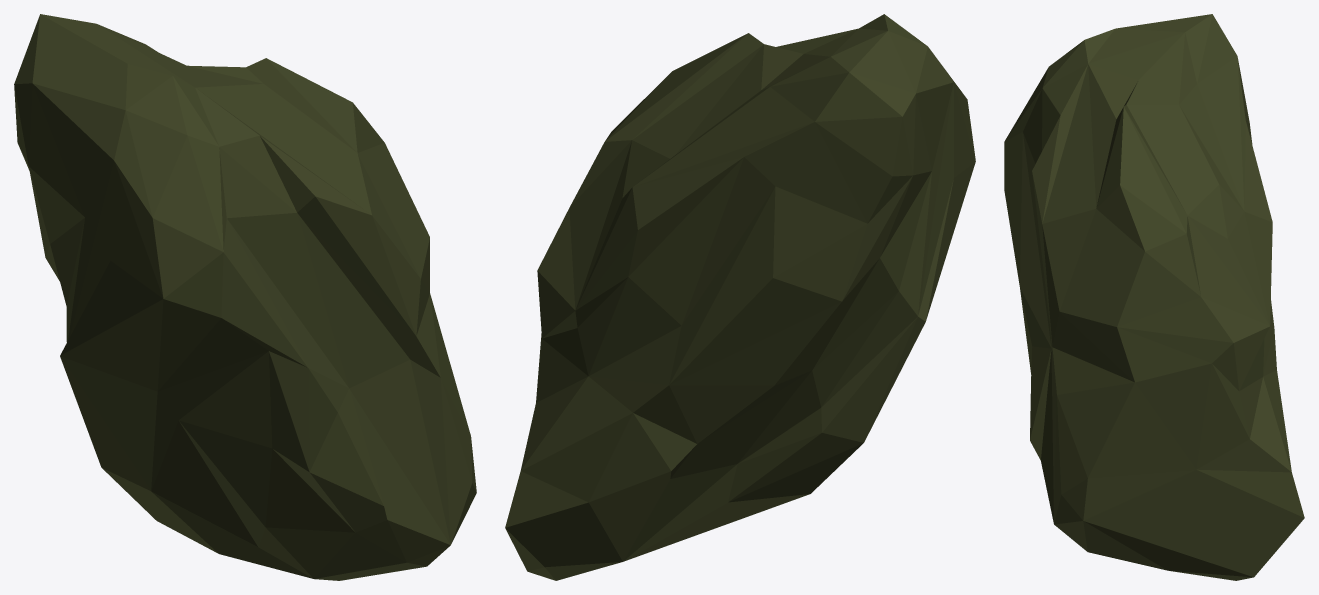
File: SM_small_rock_33.fbx
The picture shows the model from 3 angles, left to right: view 1: azimuth 30°, elevation 25°; view 2: azimuth 150°, elevation 25°; view 3: azimuth 270°, elevation 25°; orthographic projection. The views are drawn at different scales.
Parts seen in each view (by area): view 1: small_rock_33; view 2: small_rock_33; view 3: small_rock_33.
Part boxes in pixels (x1,y1,x2,y2): small_rock_33: [14, 14, 476, 580]; small_rock_33: [505, 14, 975, 580]; small_rock_33: [1004, 14, 1304, 580].
Bounding box in the file's own units: 12.15 × 17.96 × 10.7.
